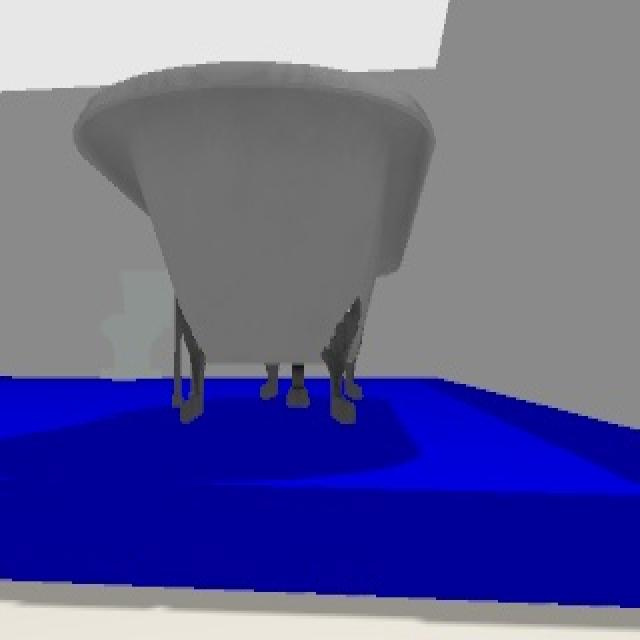bathtub: (72, 64, 440, 424)
